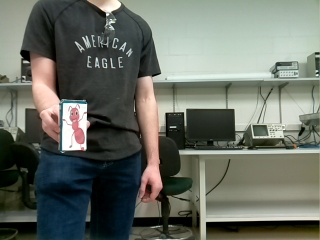Happy: (62, 103, 86, 150)
